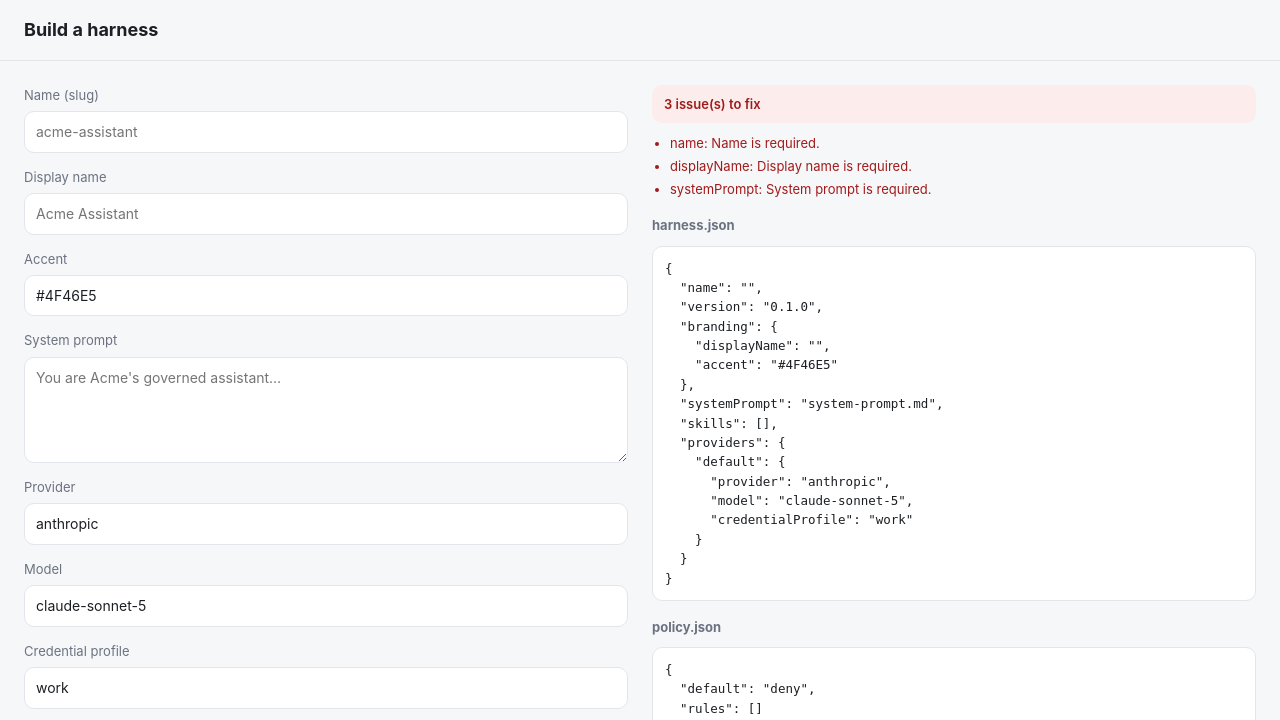
Test: a bad accent surfaces a field-specific problem
The width and height of the screenshot is (1280, 720).
Type "blue" into the field labelled "Accent" at (326, 296), box [24,275,628,316]
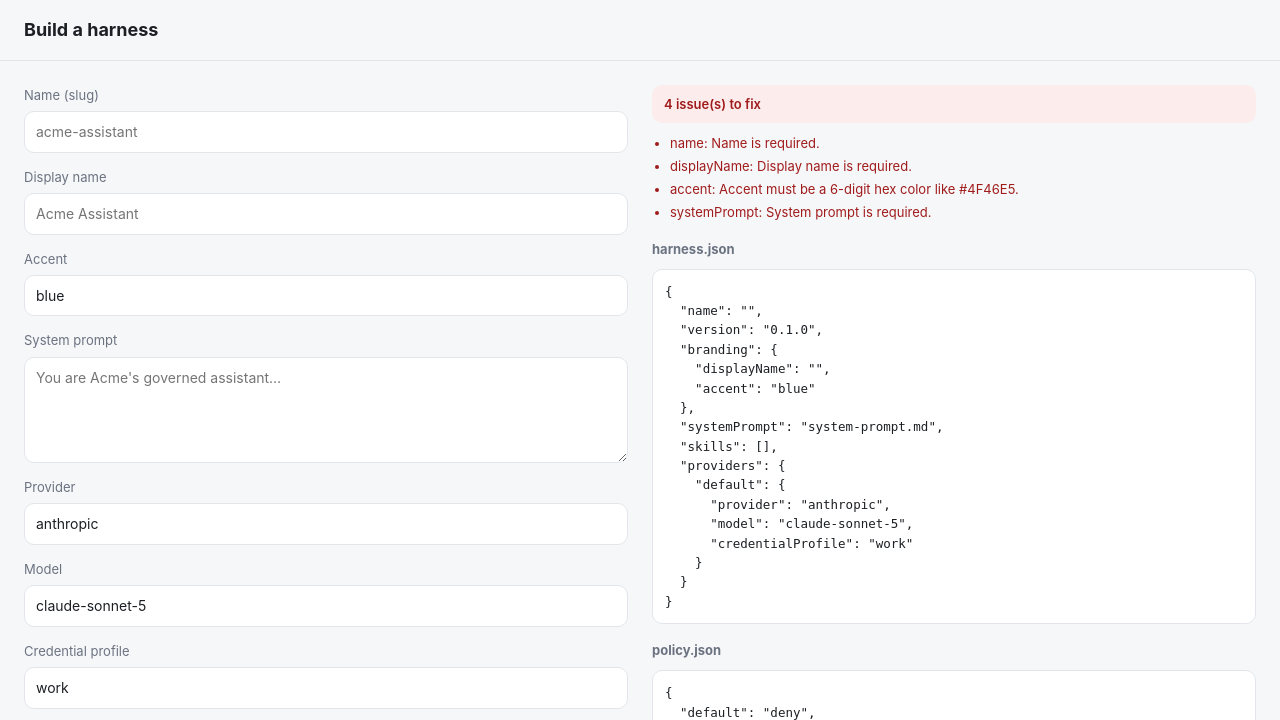
Check: the list item "accent: Accent must be a 6-digit hex color like #4F46E5." is shown, box [670,181,1019,197]
